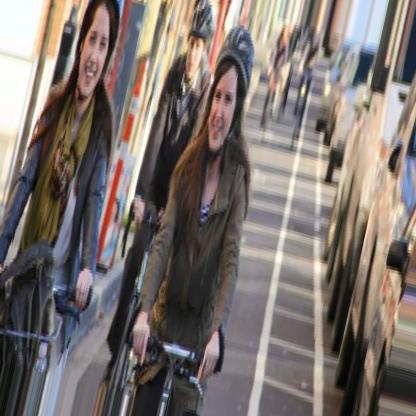with helmet: (204, 25, 258, 157), (182, 1, 216, 80)
